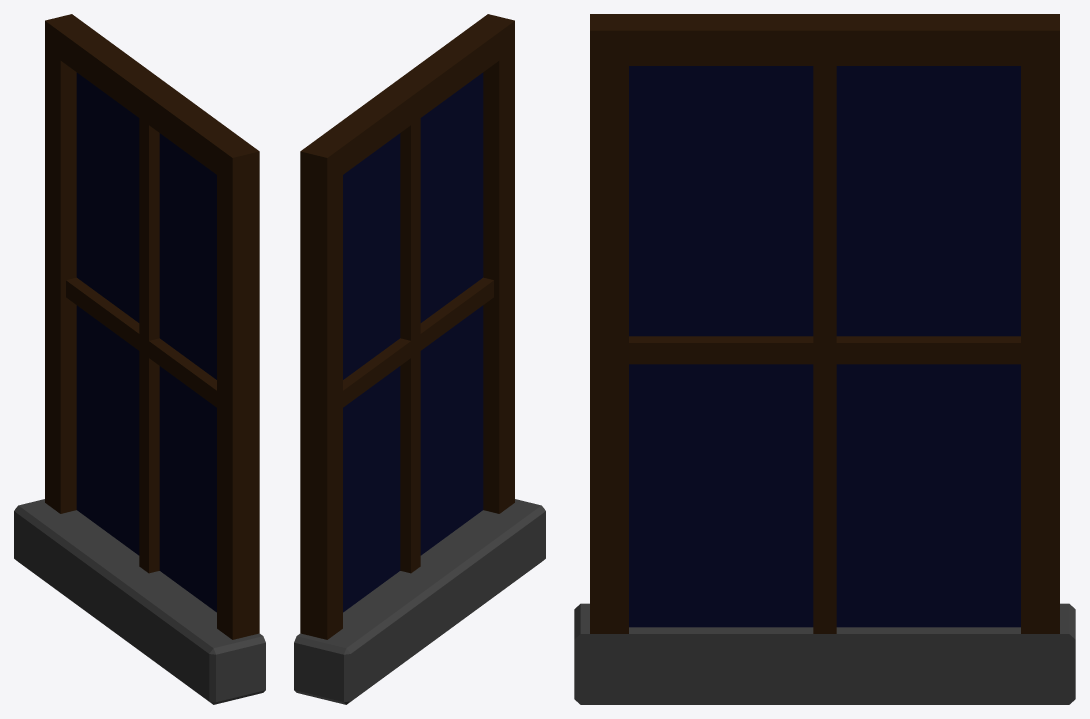
The model's file is HouseWindow.glb.
3 renders of one model, left to right at view 1: azimuth 30°, elevation 25°; view 2: azimuth 150°, elevation 25°; view 3: azimuth 270°, elevation 25°, orthographic. The views are drawn at different scales.
Parts seen in each view (by area): view 1: Window; view 2: Window; view 3: Window.
Part boxes in pixels (x1=…): Window: x1=14, y1=14, x2=265, y2=704; Window: x1=294, y1=14, x2=545, y2=704; Window: x1=574, y1=14, x2=1075, y2=704.
Bounding box in the file's own units: 0.1 × 0.95 × 0.64.
